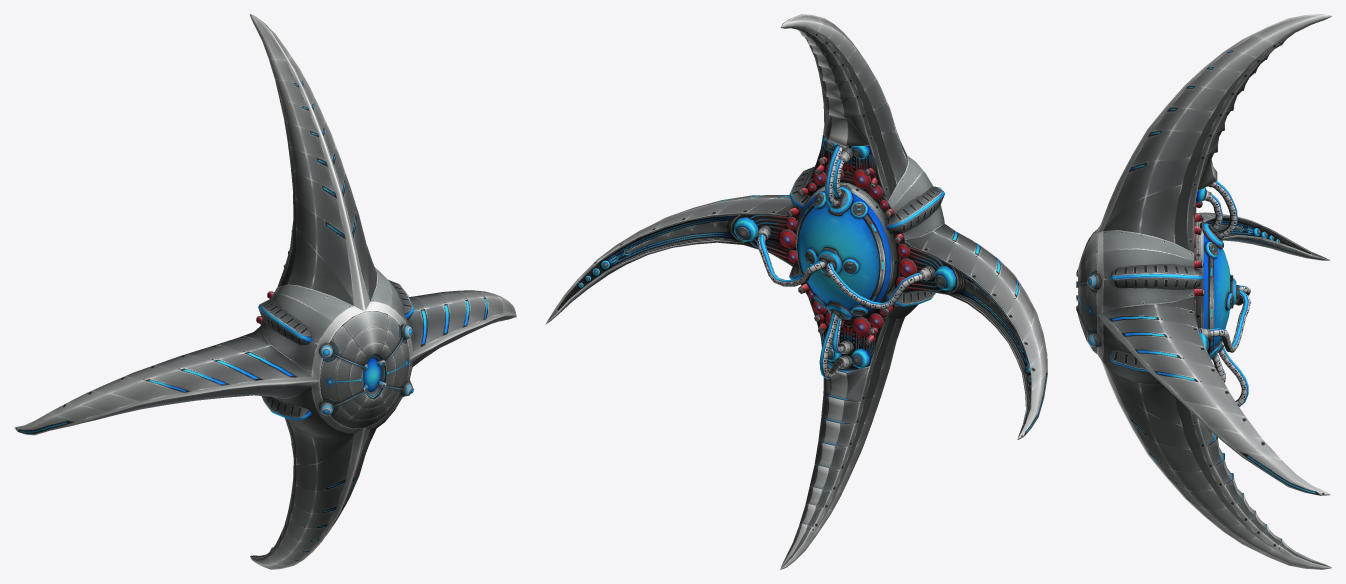
The model's file is Drone2.obj.
3 renders of one model, left to right at view 1: azimuth 30°, elevation 25°; view 2: azimuth 150°, elevation 25°; view 3: azimuth 270°, elevation 25°, orthographic.
Visible parts, largest first — view 1: polySurface299; view 2: polySurface299; view 3: polySurface299.
Part boxes in pixels (x1,y1,x2,y2): polySurface299: (14, 14, 516, 569); polySurface299: (545, 14, 1047, 569); polySurface299: (1076, 14, 1331, 569).
Size of the model in its own units: 21.96 by 24.1 by 10.05.
Materials: 1 (1 with a texture image).
